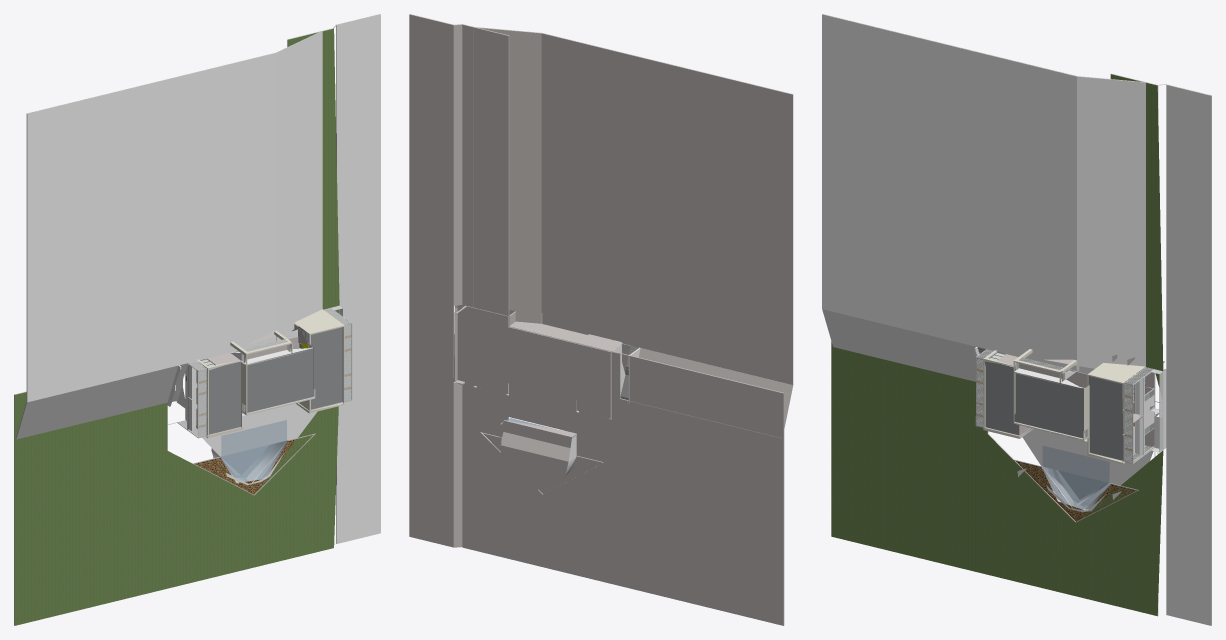
Rendered from villa3_far.glb.
The picture shows the model from 3 angles, left to right: view 1: azimuth 30°, elevation 25°; view 2: azimuth 150°, elevation 25°; view 3: azimuth 330°, elevation 25°; orthographic projection. The views are drawn at different scales.
Visible parts, largest first — view 1: Obj.10212:1, Obj.10237:1, Obj.10658:1, Obj.10237, Obj.23264, Obj.10231, Obj.10230:3, Obj.23493, Obj.23327:1; view 2: Obj.10237; view 3: Obj.10212:1, Obj.10237:1, Obj.10658:1, Obj.10237, Obj.23264, Obj.10231, Obj.10230:3, Obj.23493, Obj.23327:1, Obj.24908:4.
Boxes of the visible parts, x1,y1,x2,y2 form: Obj.10212:1: [16, 14, 380, 543]; Obj.10237:1: [14, 28, 339, 625]; Obj.10658:1: [207, 327, 342, 435]; Obj.10237: [14, 14, 380, 625]; Obj.23264: [220, 420, 286, 481]; Obj.10231: [197, 309, 344, 437]; Obj.10230:3: [177, 308, 352, 438]; Obj.23493: [179, 308, 351, 436]; Obj.23327:1: [195, 438, 308, 494]; Obj.10237: [409, 14, 793, 625]; Obj.10212:1: [822, 14, 1211, 625]; Obj.10237:1: [831, 74, 1163, 616]; Obj.10658:1: [985, 361, 1123, 461]; Obj.10237: [822, 14, 1211, 625]; Obj.23264: [1042, 446, 1110, 509]; Obj.10231: [983, 349, 1145, 463]; Obj.10230:3: [975, 349, 1164, 463]; Obj.23493: [976, 350, 1153, 462]; Obj.23327:1: [1016, 461, 1136, 521]; Obj.24908:4: [1084, 369, 1162, 456].
Bounding box in the file's own units: 65.19 × 87.71 × 11.43.
36 materials, 9 textured.
